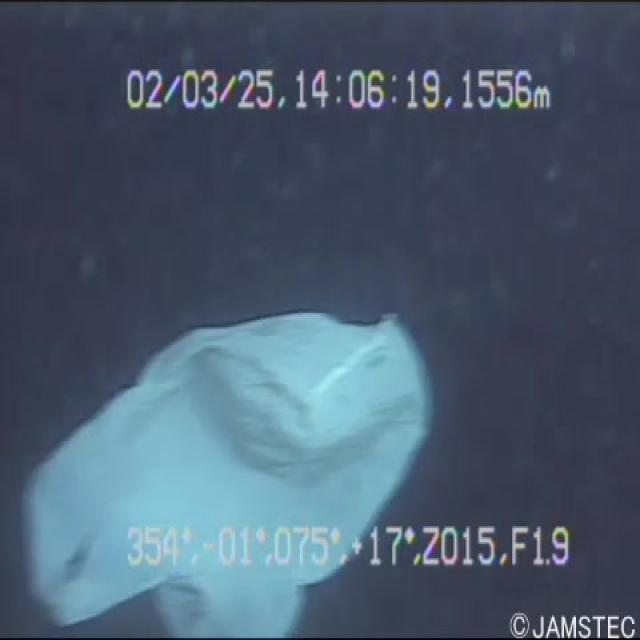plastic: (15, 284, 444, 638)
